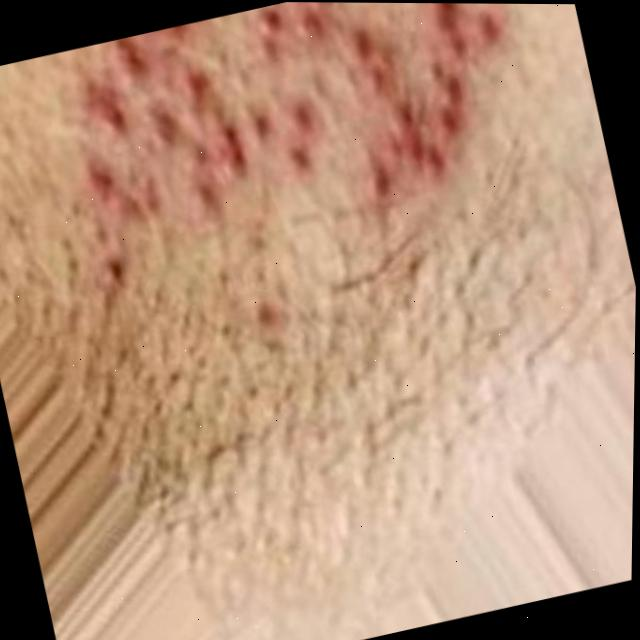Shingles: (53, 0, 531, 268)
